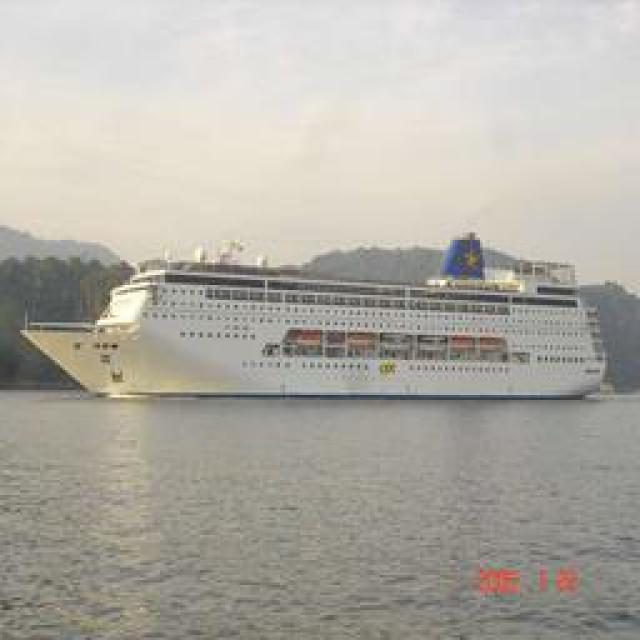Ship: (31, 245, 609, 403)
